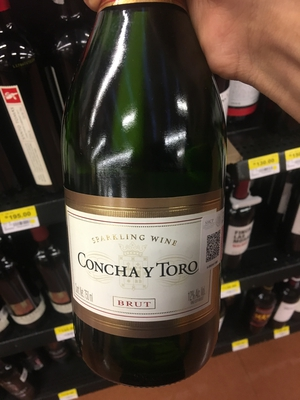brut: (60, 4, 234, 382)
